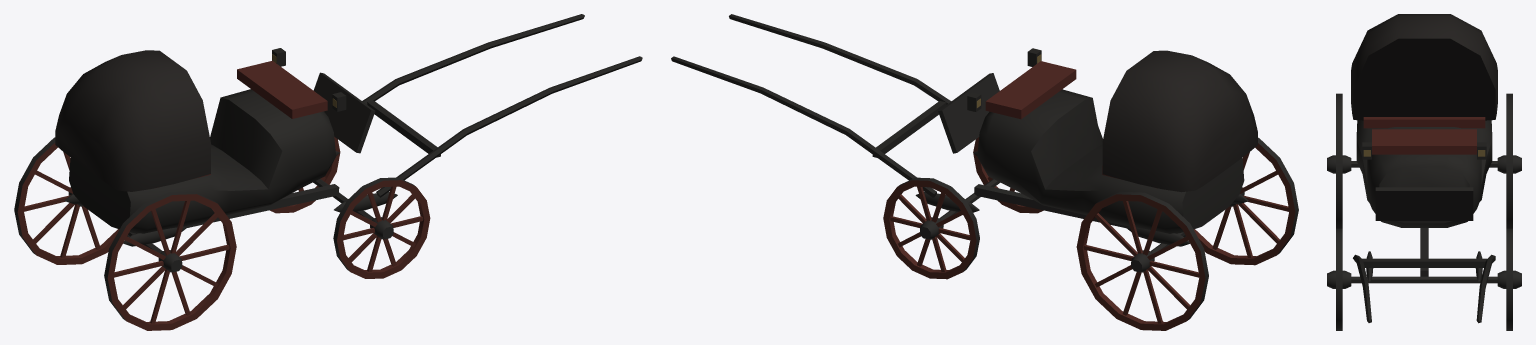
The model's file is actor-carriage.glb.
3 renders of one model, left to right at view 1: azimuth 30°, elevation 25°; view 2: azimuth 150°, elevation 25°; view 3: azimuth 270°, elevation 25°, orthographic. The views are drawn at different scales.
Parts seen in each view (by area): view 1: body, wheel_br, wheel_fr, wheel_bl, wheel_fl; view 2: body, wheel_bl, wheel_fl, wheel_br, wheel_fr; view 3: body, wheel_bl, wheel_br, wheel_fl, wheel_fr.
Part boxes in pixels (x1,y1,x2,y2): body: (55,14,642,252); wheel_br: (104,191,236,330); wheel_fr: (333,177,430,278); wheel_bl: (14,137,119,264); wheel_fl: (270,137,340,213); body: (671,14,1257,253); wheel_bl: (1076,191,1208,330); wheel_fl: (883,177,979,279); wheel_br: (1193,137,1298,265); wheel_fr: (973,137,1043,213); body: (1351,14,1497,323); wheel_bl: (1497,93,1521,228); wheel_br: (1327,93,1351,228); wheel_fl: (1497,228,1521,330); wheel_fr: (1327,228,1351,330).
Bounding box in the file's own units: 4.97 × 1.96 × 1.6.
